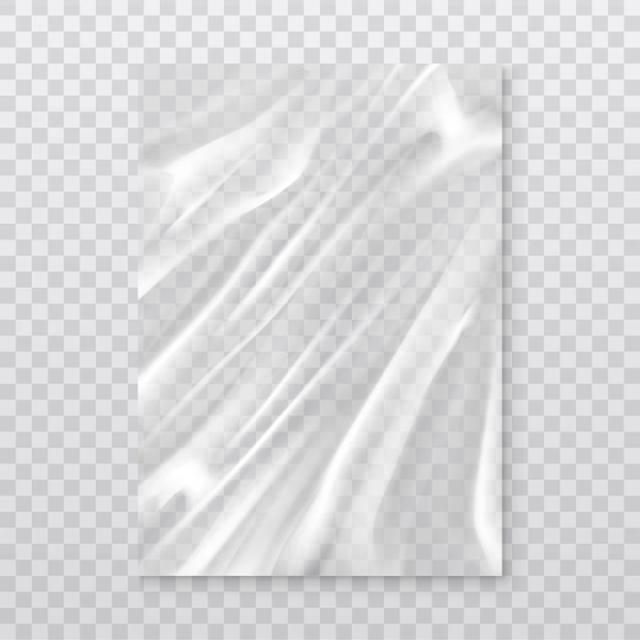plastic_bag: (130, 40, 520, 640)
